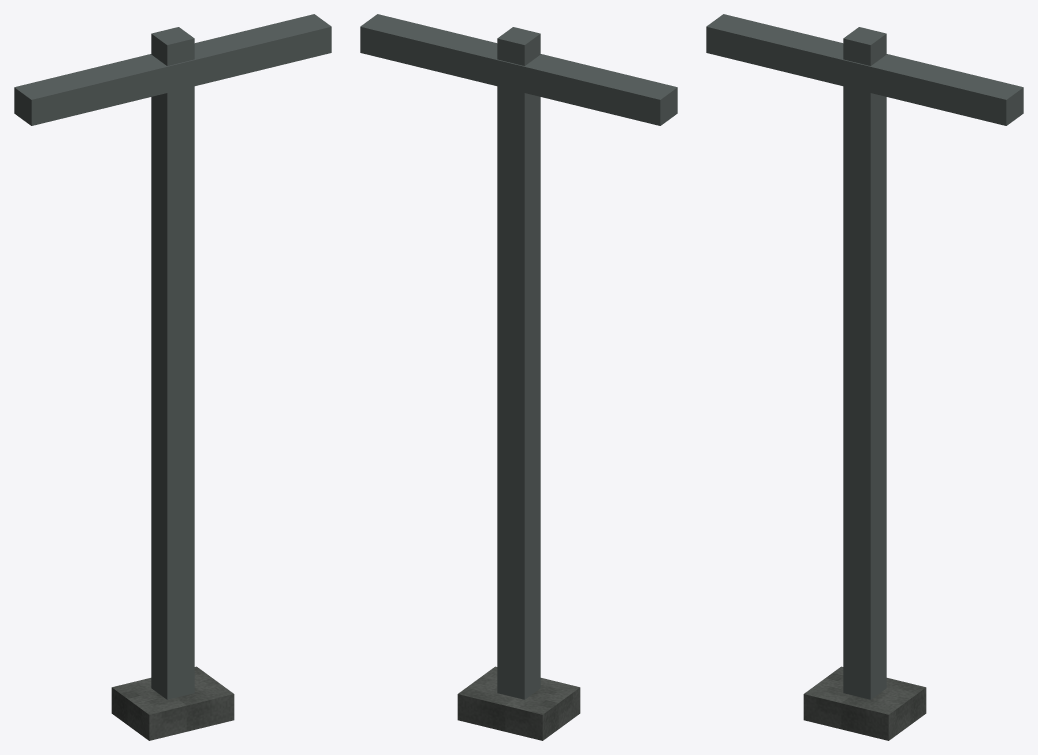
The model's file is ENV_F_GondolaPole.fbx.
3 views of the same model, side by side, from view 1: azimuth 30°, elevation 25°; view 2: azimuth 150°, elevation 25°; view 3: azimuth 330°, elevation 25° (orthographic).
Parts seen in each view (by area): view 1: PL_ENV_F_GondolaPole; view 2: PL_ENV_F_GondolaPole; view 3: PL_ENV_F_GondolaPole.
Boxes of the visible parts, bbox=[...] form: PL_ENV_F_GondolaPole: bbox=[14, 14, 331, 740]; PL_ENV_F_GondolaPole: bbox=[360, 14, 677, 740]; PL_ENV_F_GondolaPole: bbox=[706, 14, 1023, 740].
Size of the model in its own units: 600 by 1300 by 130.
2 materials, 1 textured.
